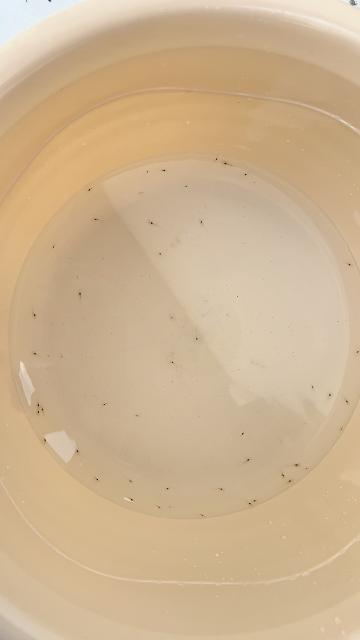benur: (194, 336, 200, 345), (344, 399, 351, 406), (168, 359, 175, 365), (244, 171, 250, 177), (31, 350, 37, 356), (32, 314, 38, 320), (198, 218, 204, 224), (241, 430, 247, 436), (221, 160, 227, 165), (348, 262, 353, 268), (220, 488, 226, 493), (76, 450, 81, 456), (43, 438, 48, 444), (36, 404, 41, 410), (78, 290, 83, 296), (148, 219, 153, 225), (160, 251, 165, 257), (214, 155, 219, 160), (354, 351, 359, 356), (296, 462, 301, 467), (247, 457, 252, 462), (163, 486, 168, 491), (131, 498, 136, 503), (96, 478, 101, 483), (36, 411, 41, 416), (92, 217, 97, 222), (185, 184, 190, 189), (311, 383, 315, 389), (248, 503, 254, 507), (328, 392, 333, 396), (339, 427, 343, 432), (202, 513, 206, 518), (102, 403, 106, 408), (39, 406, 44, 410), (86, 189, 91, 193), (139, 191, 143, 196), (163, 169, 168, 173), (305, 466, 309, 470), (282, 475, 286, 479), (158, 505, 162, 509), (129, 480, 133, 484), (60, 356, 64, 360), (289, 479, 294, 482), (252, 500, 256, 503), (51, 246, 55, 249), (147, 169, 150, 173)
